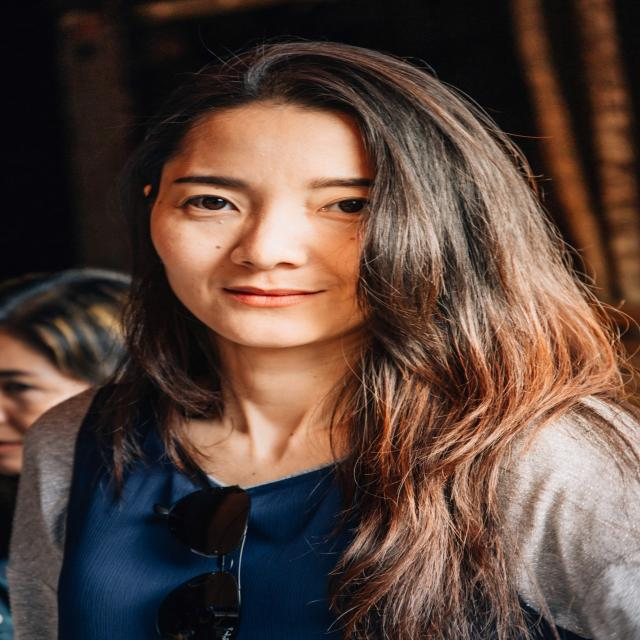adult: (14, 34, 636, 640)
